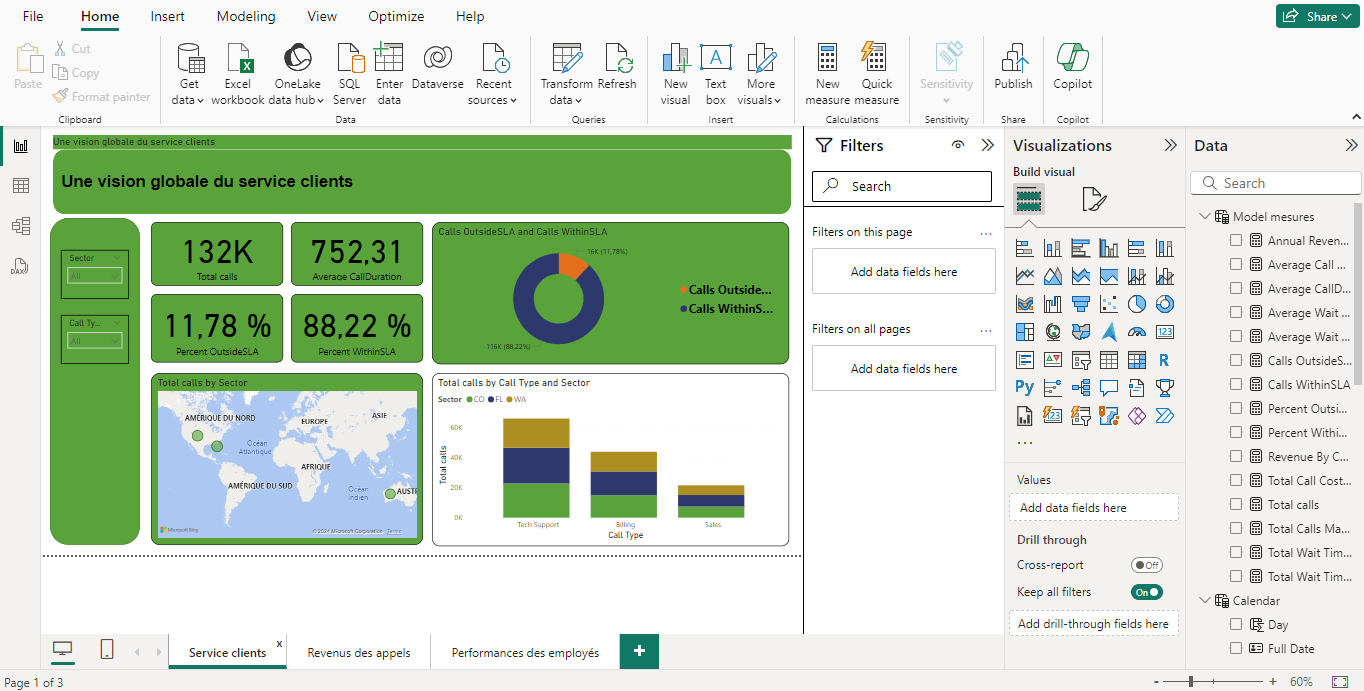

The dashboard page shown, as its layout file describes it:
{"tool":"powerbi","page":{"name":"Service clients","canvas":[1280,720],"ordinal":0},"visuals":[{"type":"shape","title":"Une vision globale du service clients","box":[20.7,15,1240.5,133.5],"z":0},{"type":"shape","box":[15.1,154.5,151.2,549.3],"z":1000},{"type":"card","fields":{"Values":["Model mesures.Total calls"]},"box":[184.2,161.6,221.8,107.1],"z":2000},{"type":"card","fields":{"Values":["Model mesures.Average CallDuration"]},"box":[419.1,161.6,221.8,107.1],"z":3000},{"type":"donutChart","fields":{"Y":["Model mesures.Calls OutsideSLA","Model mesures.Calls WithinSLA"]},"box":[656,161.6,599.6,238.7],"z":4000},{"type":"card","fields":{"Values":["Model mesures.Percent OutsideSLA"]},"box":[184.2,281.9,221.8,114.7],"z":5000},{"type":"card","fields":{"Values":["Model mesures.Percent WithinSLA"]},"box":[419.1,281.9,221.8,114.7],"z":6000},{"type":"slicer","fields":{"Values":["Employees.Sector"]},"box":[33.6,208.3,114.2,82.3],"z":7000},{"type":"slicer","fields":{"Values":["Call type.Call Type"]},"box":[33.6,317.5,114.2,82.3],"z":8000},{"type":"columnChart","fields":{"Category":["Call type.Call Type"],"Series":["Employees.Sector"],"Y":["Model mesures.Total calls"]},"box":[656,415.4,599.6,291.3],"z":9000},{"type":"map","fields":{"Size":["Model mesures.Total calls"],"Category":["Employees.Sector"]},"box":[184.2,415.4,456.7,289.5],"z":10000}]}

Visuals, with their boxes on the page's 1280x720 design canvas (x1, y1, x2, y2). These are canvas units, not pixel positions in the 1364x691 screenshot, which may show the page scaled, cropped or inside an application window:
"Une vision globale du service clients" shape: rect(21, 15, 1261, 148)
shape: rect(15, 154, 166, 704)
card - Model mesures.Total calls: rect(184, 162, 406, 269)
card - Model mesures.Average CallDuration: rect(419, 162, 641, 269)
donutChart - Model mesures.Calls OutsideSLA x Model mesures.Calls WithinSLA: rect(656, 162, 1256, 400)
card - Model mesures.Percent OutsideSLA: rect(184, 282, 406, 397)
card - Model mesures.Percent WithinSLA: rect(419, 282, 641, 397)
slicer - Employees.Sector: rect(34, 208, 148, 291)
slicer - Call type.Call Type: rect(34, 318, 148, 400)
columnChart - Call type.Call Type x Employees.Sector: rect(656, 415, 1256, 707)
map - Model mesures.Total calls x Employees.Sector: rect(184, 415, 641, 705)
